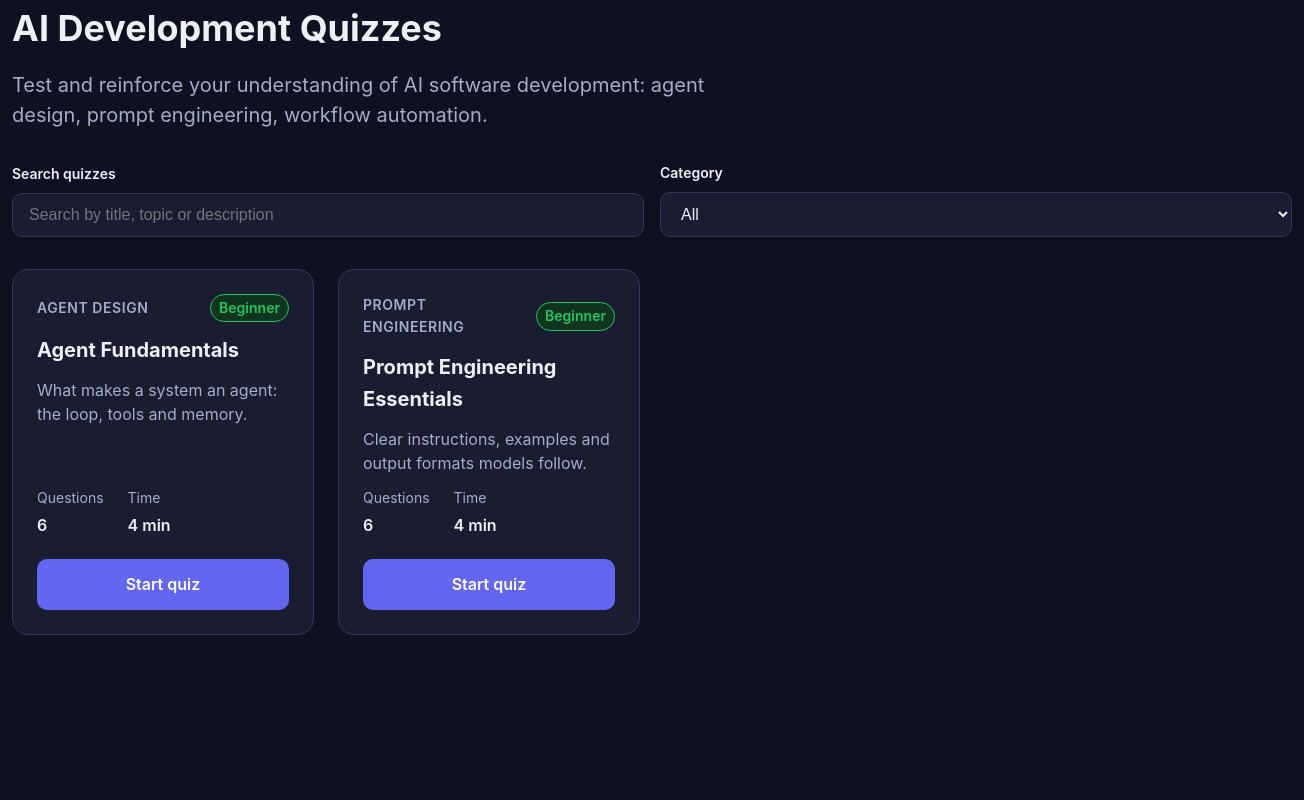
Test: HomePage › filters the list by search term
Check: the heading "Agent Fundamentals" is shown, box [37,338,239,362]
Type "prompt" into the search field labelled "Search quizzes" at (328, 215), box [12,193,644,237]
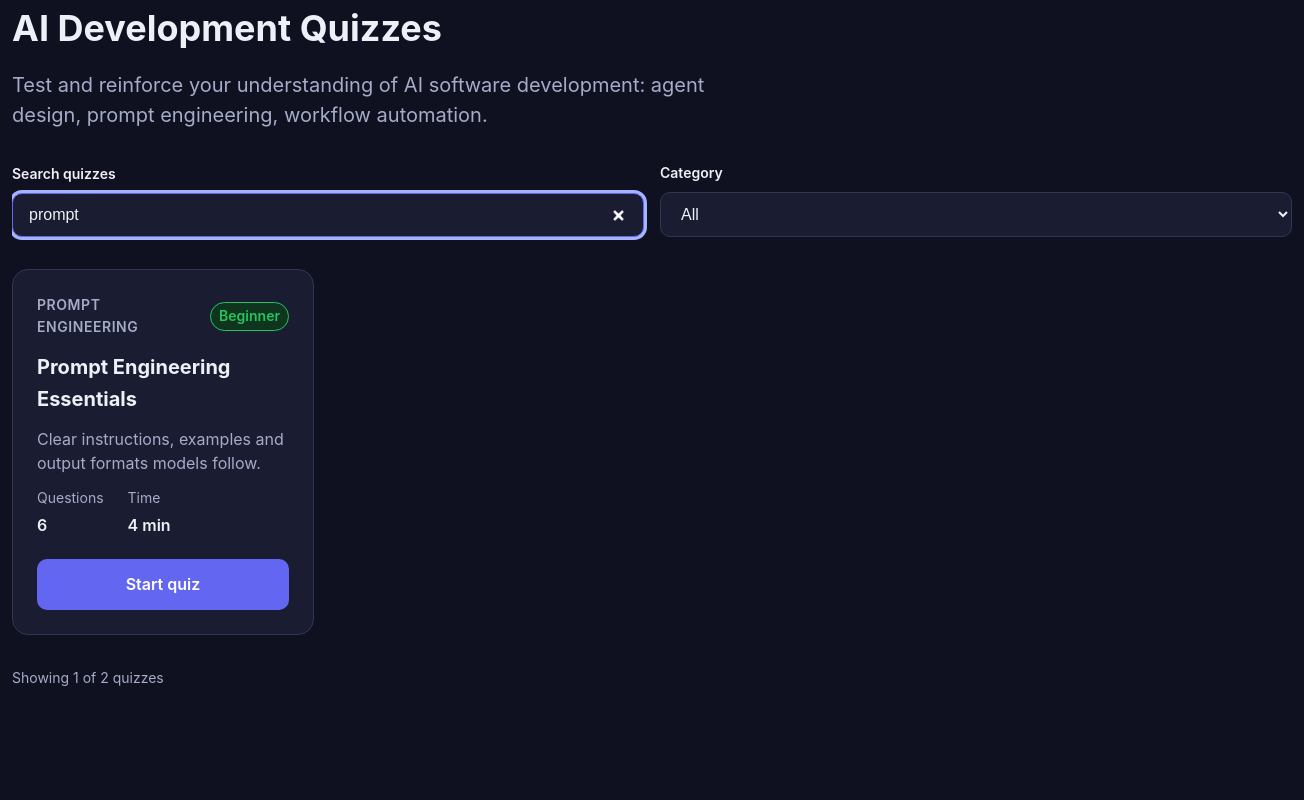
Check: the heading "Prompt Engineering Essentials" is shown, box [37,355,230,411]
Check: the heading "Agent Fundamentals" is gone
